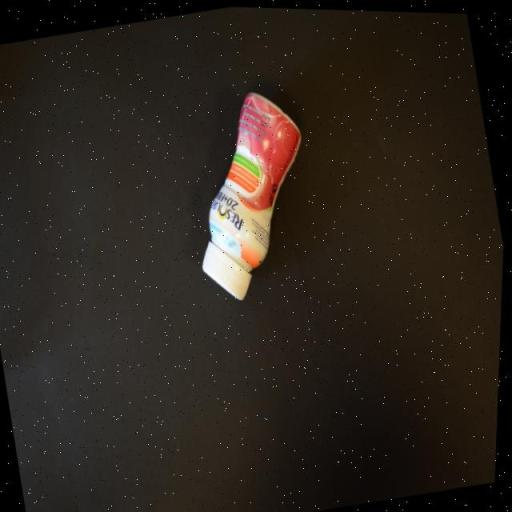plastic: (169, 76, 333, 310)
